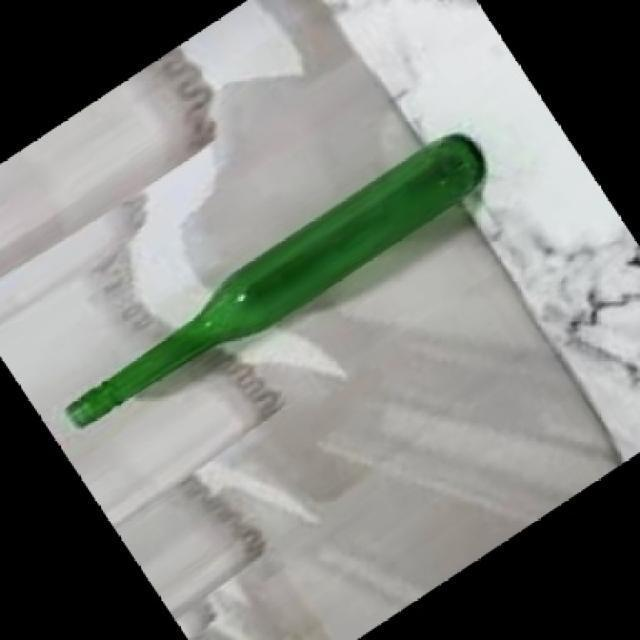Glass: (62, 134, 488, 432)
